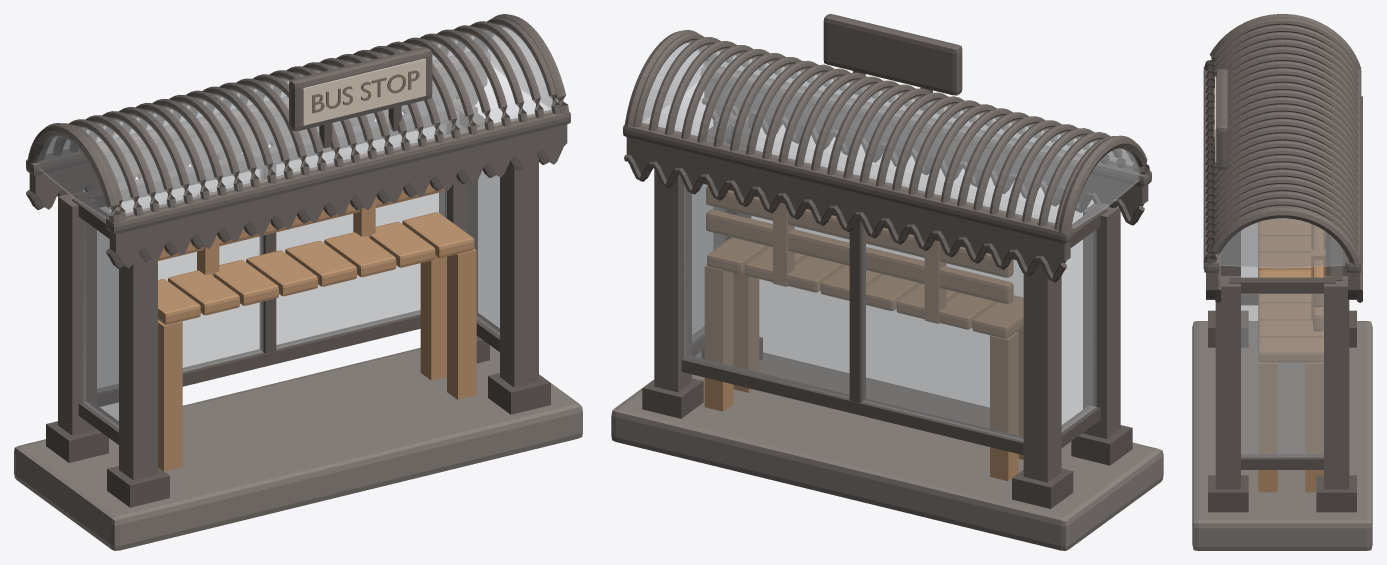
The model's file is 34-bus-stop-shelter-bs6.glb.
3 views of the same model, side by side, from view 1: azimuth 30°, elevation 25°; view 2: azimuth 150°, elevation 25°; view 3: azimuth 270°, elevation 25° (orthographic). The views are drawn at different scales.
Parts seen in each view (by area): view 1: Plinth, BackGlass, VaultSkin, Valance_Front, Post_+1-1, Post_-1+1, Post_-1-1, EaveRail_Front, SideGlass_L, Valance_Back, BackBotRail, BenchLeg_1 (+48 smaller); view 2: BackGlass, Plinth, VaultSkin, Valance_Back, Post_-1-1, Post_-1+1, Post_+1+1, SignBoard, EaveRail_Back, BackBotRail, SideGlass_L, BackSlat_0 (+55 smaller); view 3: Plinth, SideGlass_R, Post_+1+1, Post_+1-1, EndGlass_EndR, BenchLeg_1, EndFrame_EndR, BenchLeg_3, SeatSlat_7, SideTopRail_R, SideBotRail_R, SignBoard (+51 smaller).
Boxes of the visible parts, x1,y1,x2,y2 form: Plinth: (14,345,582,550); BackGlass: (97,123,446,392); VaultSkin: (45,24,558,215); Valance_Front: (109,124,567,268); Post_+1-1: (500,154,538,387); Post_-1+1: (58,191,96,435); Post_-1-1: (119,249,157,480); EaveRail_Front: (106,110,570,234); SideGlass_L: (83,220,118,428); Valance_Back: (29,67,486,209); BackBotRail: (97,310,420,406); BenchLeg_1: (447,249,476,399); BackGlass: (684,184,1023,440); Plinth: (611,352,1163,550); VaultSkin: (641,40,1140,225); Valance_Back: (626,137,1070,274); Post_-1-1: (1083,203,1120,438); Post_-1+1: (1023,263,1061,482); Post_+1+1: (654,170,691,392); SignBoard: (823,14,962,95); EaveRail_Back: (623,123,1074,243); BackBotRail: (681,355,1023,455); SideGlass_L: (1061,230,1096,431); BackSlat_0: (706,210,1013,303); Plinth: (1192,321,1372,550); SideGlass_R: (1241,293,1323,457); Post_+1+1: (1324,276,1349,489); Post_+1-1: (1215,276,1240,489); EndGlass_EndR: (1217,218,1347,268); BenchLeg_1: (1258,361,1277,492); EndFrame_EndR: (1203,207,1361,265); BenchLeg_3: (1305,362,1323,492); SeatSlat_7: (1258,337,1323,362); SideTopRail_R: (1229,277,1335,293); SideBotRail_R: (1241,454,1323,469); SignBoard: (1216,69,1228,170).
Size of the model in its own units: 4 by 3.35 by 1.5.
